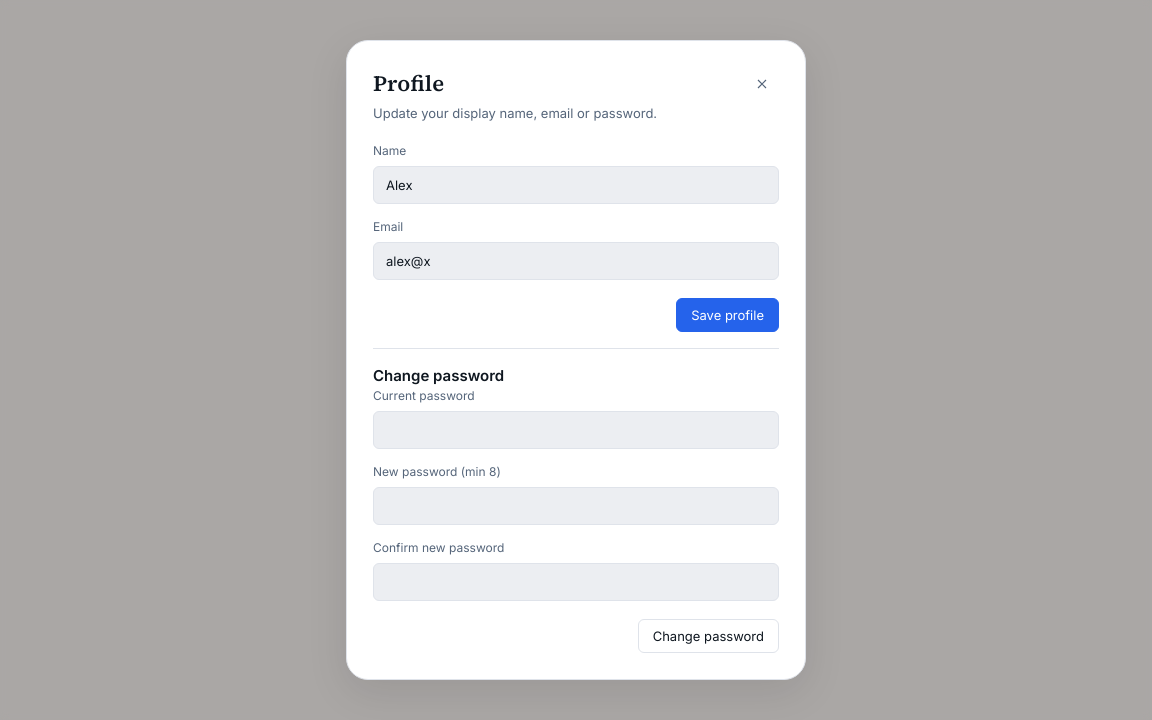
Test: ProfileModal — profile save › renders the API error from updateMe
The width and height of the screenshot is (1152, 720).
Replace the text in the 2nd field with "taken@x": (576, 260) [373, 242, 779, 280]
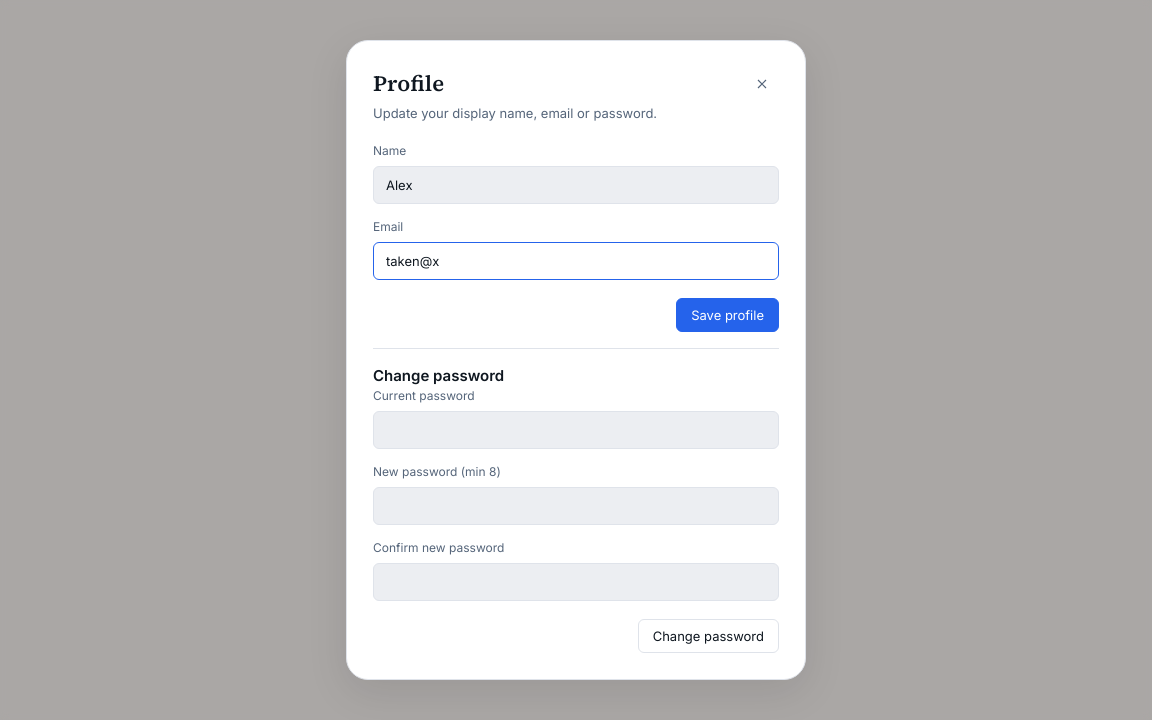
Click the button "Save profile": (728, 314) [676, 298, 779, 332]
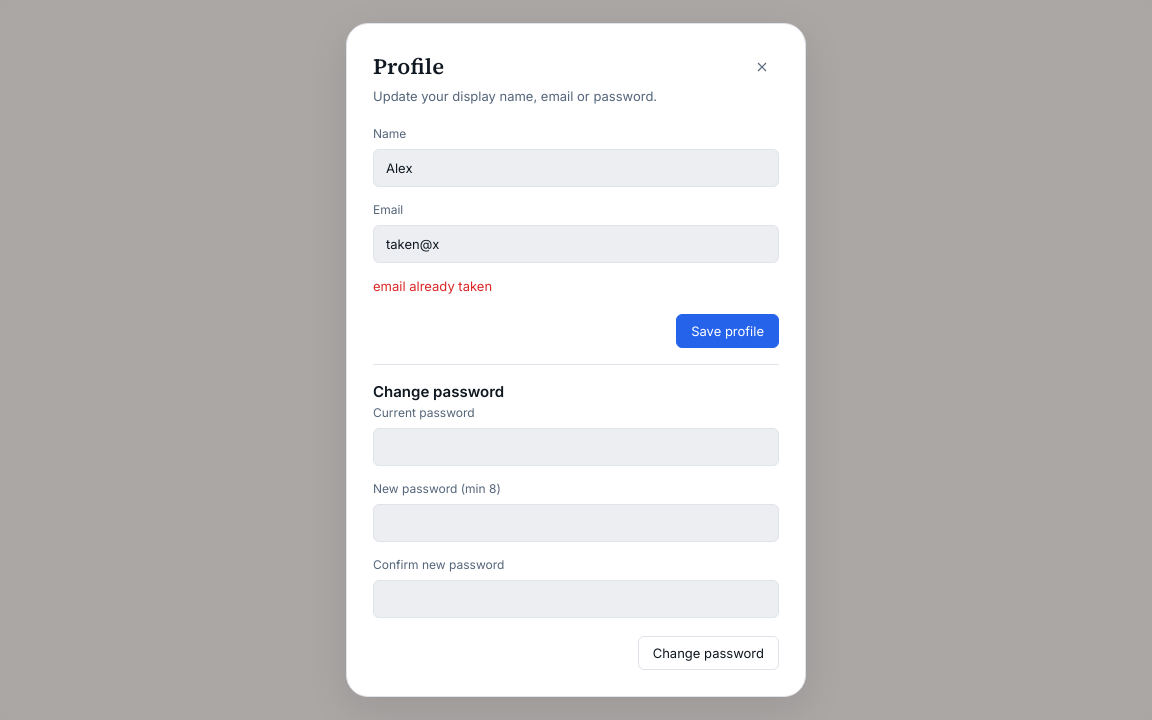
Result: the text "email already taken" is shown at [373, 278, 492, 294]
